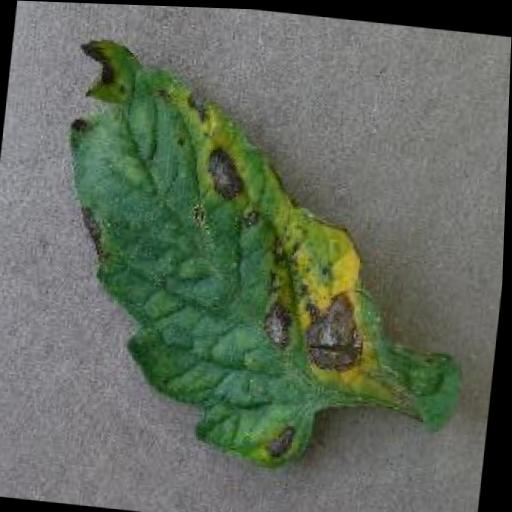Early Blight: (35, 37, 500, 481)
